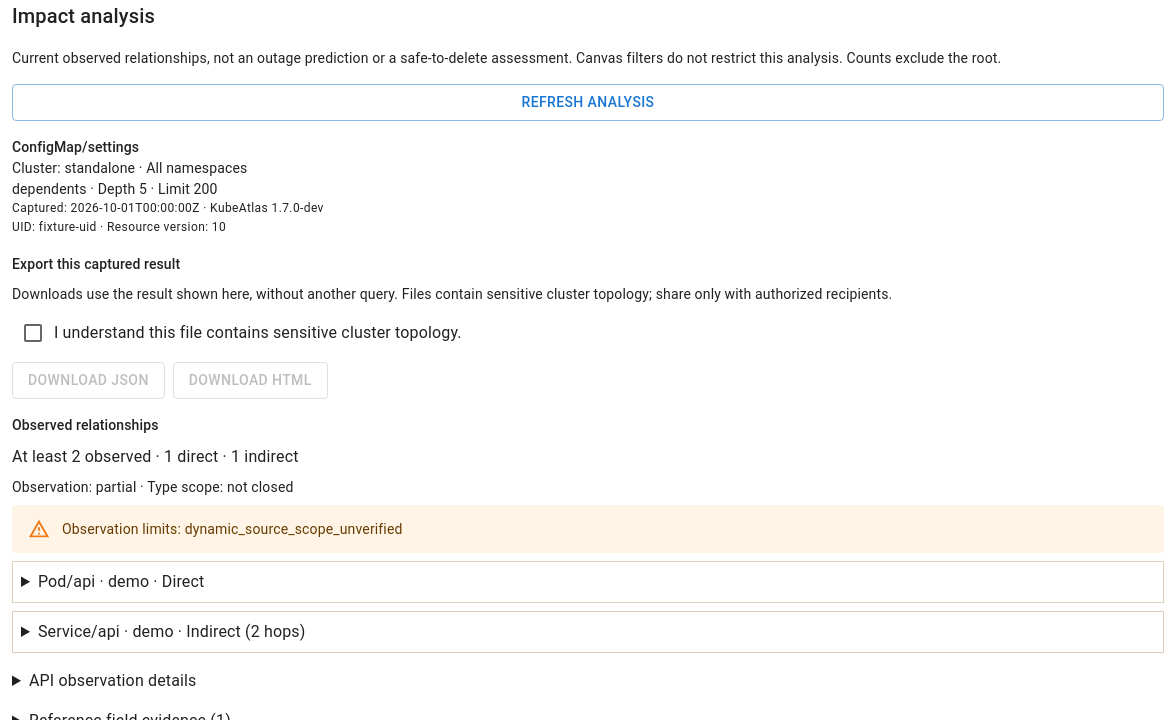
Test: API coverage explains captured inventory flags without another read
Click the heading "API observation details" at (113, 680), box [29,671,196,690]
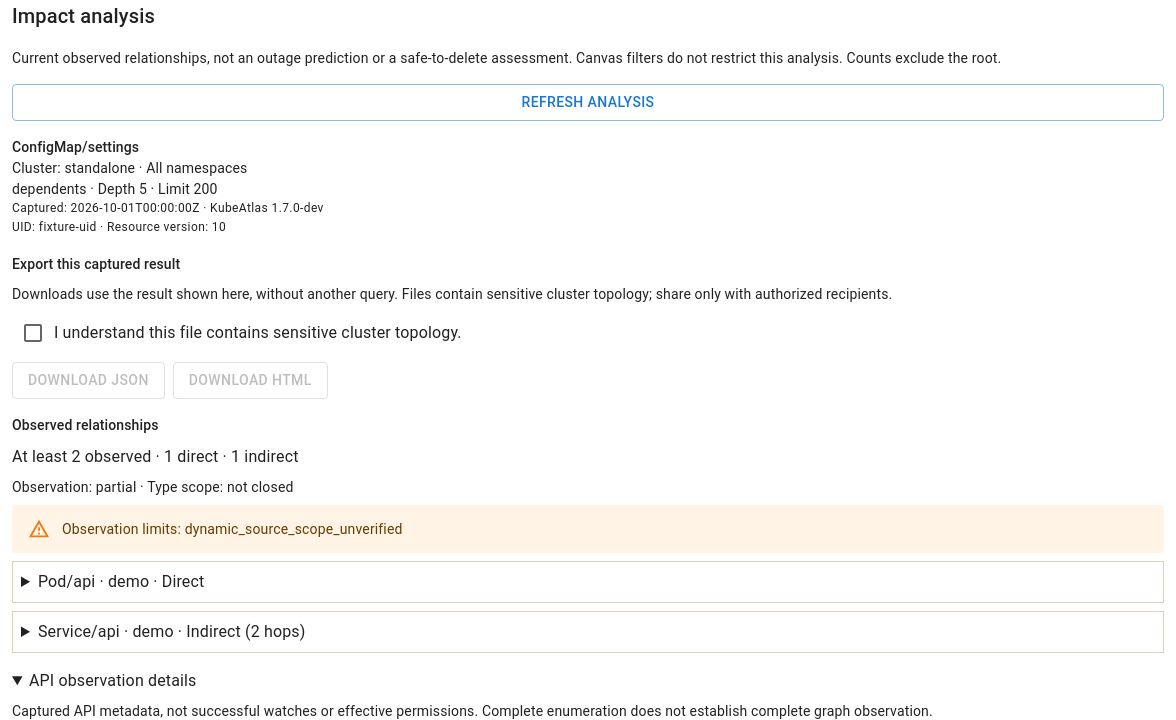
Expected: the text "not successful watches or effective permissions" is shown, [12,703,933,719]
